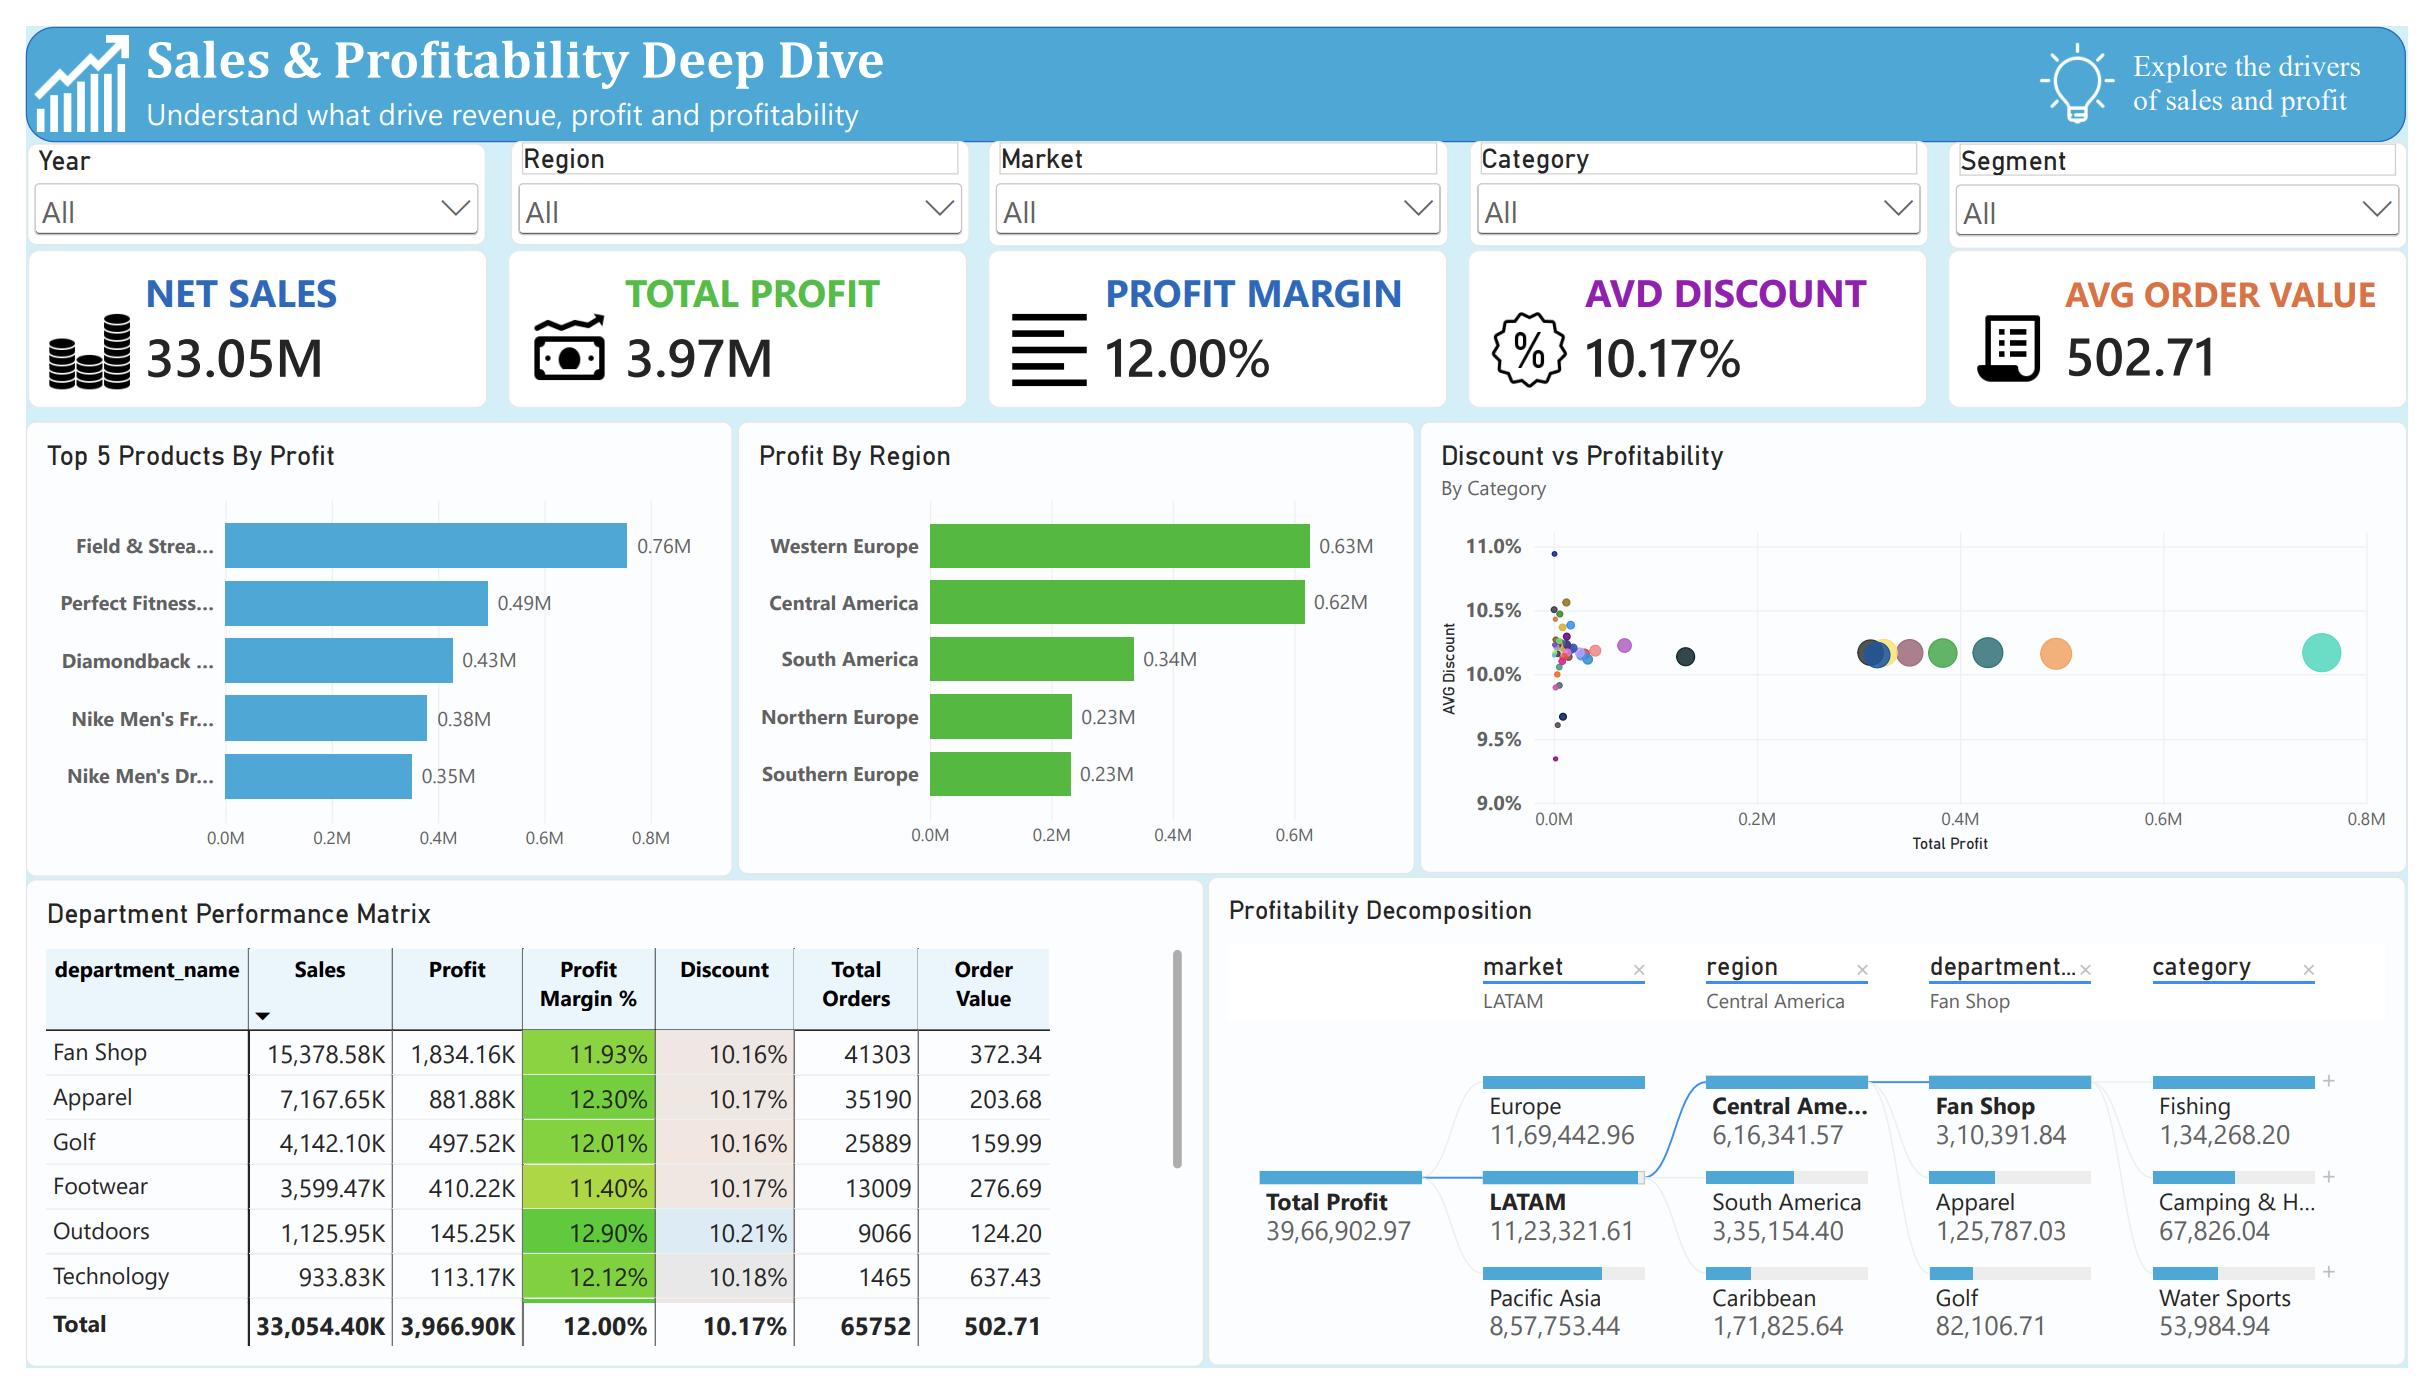

Layout of this report page (visuals, bound fields, positions):
{"tool":"powerbi","page":{"name":"Sales & Profit","canvas":[1920,1080],"ordinal":1},"visuals":[{"type":"shape","box":[0,0,1919.3,93],"z":0},{"type":"textbox","title":"Sales & Profitability Deep Dive","box":[97.3,0,644.5,112.8],"z":1000},{"type":"slicer","fields":{"Values":["dim_date.year_number"]},"box":[1.2,93.5,370.2,82.5],"z":2000},{"type":"slicer","fields":{"Values":["dim_order_locations.region"]},"box":[390.7,92.1,370.2,83.6],"z":3000},{"type":"slicer","fields":{"Values":["dim_order_locations.market"]},"box":[776.3,92.1,370.2,85.3],"z":4000},{"type":"slicer","fields":{"Values":["dim_products.category_name"]},"box":[1163.6,92.1,370.2,85.3],"z":5000},{"type":"slicer","fields":{"Values":["dim_customers.segment"]},"box":[1550,92.9,370,86],"z":6000},{"type":"barChart","title":"Top 5 Products By Profit","fields":{"Category":["dim_products.product_name"],"Y":["_Measures.Total Profit"]},"box":[0,318,570,366],"z":7000},{"type":"pivotTable","title":"Department Performance Matrix","fields":{"Rows":["dim_products.department_name"],"Values":["_Measures.Net Sales","_Measures.Total Profit","_Measures.Profit Margin %","_Measures.AVG Discount","_Measures.Total Orders","_Measures.AVG Order Value"]},"box":[0,686,950,393],"z":8000},{"type":"barChart","title":"Profit By Region","fields":{"Y":["_Measures.Total Profit"],"Category":["dim_order_locations.region"]},"box":[574,318,546,364],"z":9000},{"type":"decompositionTreeVisual","title":"Profitability Decomposition","fields":{"Analyze":["_Measures.Total Profit"],"ExplainBy":["dim_order_locations.market","dim_order_locations.region","dim_products.department_name","dim_products.category_name","dim_products.product_name"]},"box":[953.4,684.5,966,394],"z":10000},{"type":"scatterChart","title":"Discount vs Profitability","fields":{"X":["_Measures.Total Profit"],"Size":["_Measures.Net Sales"],"Y":["_Measures.AVG Discount"],"Category":["dim_products.category_name"],"Series":["dim_products.category_name"]},"box":[1124,318,796,363],"z":11000},{"type":"cardVisual","fields":{"Data":["_Measures.Net Sales"]},"box":[1.7,180,370,126.7],"z":12000},{"type":"cardVisual","fields":{"Data":["_Measures.Total Profit"]},"box":[388.8,180,370,126.7],"z":13000},{"type":"cardVisual","fields":{"Data":["_Measures.Profit Margin %"]},"box":[775.8,180,370,126.7],"z":14000},{"type":"cardVisual","fields":{"Data":["_Measures.AVG Discount"]},"box":[1162.9,180,370,126.7],"z":15000},{"type":"cardVisual","fields":{"Data":["_Measures.AVG Order Value"]},"box":[1550,180,370,126.7],"z":16000},{"type":"image","box":[1.7,6.8,85.3,76.8],"z":17000},{"type":"image","box":[1608.9,12,90.4,68.2],"z":18000},{"type":"textbox","box":[1699.3,18.8,197.9,73.4],"z":19000}]}

Visuals, with their boxes in screenshot pixels (x1, y1, x2, y2), scaled from the page's 1920x1080 canvas onto the 2428x1394 screenshot:
shape: pyautogui.locateOnScreen(0, 0, 2427, 120)
"Sales & Profitability Deep Dive" textbox: pyautogui.locateOnScreen(123, 0, 938, 146)
slicer - dim_date.year_number: pyautogui.locateOnScreen(2, 121, 470, 227)
slicer - dim_order_locations.region: pyautogui.locateOnScreen(494, 119, 962, 227)
slicer - dim_order_locations.market: pyautogui.locateOnScreen(982, 119, 1450, 229)
slicer - dim_products.category_name: pyautogui.locateOnScreen(1471, 119, 1940, 229)
slicer - dim_customers.segment: pyautogui.locateOnScreen(1960, 120, 2427, 231)
"Top 5 Products By Profit" barChart: pyautogui.locateOnScreen(0, 410, 721, 883)
"Department Performance Matrix" pivotTable: pyautogui.locateOnScreen(0, 885, 1201, 1393)
"Profit By Region" barChart: pyautogui.locateOnScreen(726, 410, 1416, 880)
"Profitability Decomposition" decompositionTreeVisual: pyautogui.locateOnScreen(1206, 884, 2427, 1392)
"Discount vs Profitability" scatterChart: pyautogui.locateOnScreen(1421, 410, 2427, 879)
cardVisual - _Measures.Net Sales: pyautogui.locateOnScreen(2, 232, 470, 396)
cardVisual - _Measures.Total Profit: pyautogui.locateOnScreen(492, 232, 960, 396)
cardVisual - _Measures.Profit Margin %: pyautogui.locateOnScreen(981, 232, 1449, 396)
cardVisual - _Measures.AVG Discount: pyautogui.locateOnScreen(1471, 232, 1938, 396)
cardVisual - _Measures.AVG Order Value: pyautogui.locateOnScreen(1960, 232, 2427, 396)
image: pyautogui.locateOnScreen(2, 9, 110, 108)
image: pyautogui.locateOnScreen(2035, 15, 2149, 104)
textbox: pyautogui.locateOnScreen(2149, 24, 2399, 119)
